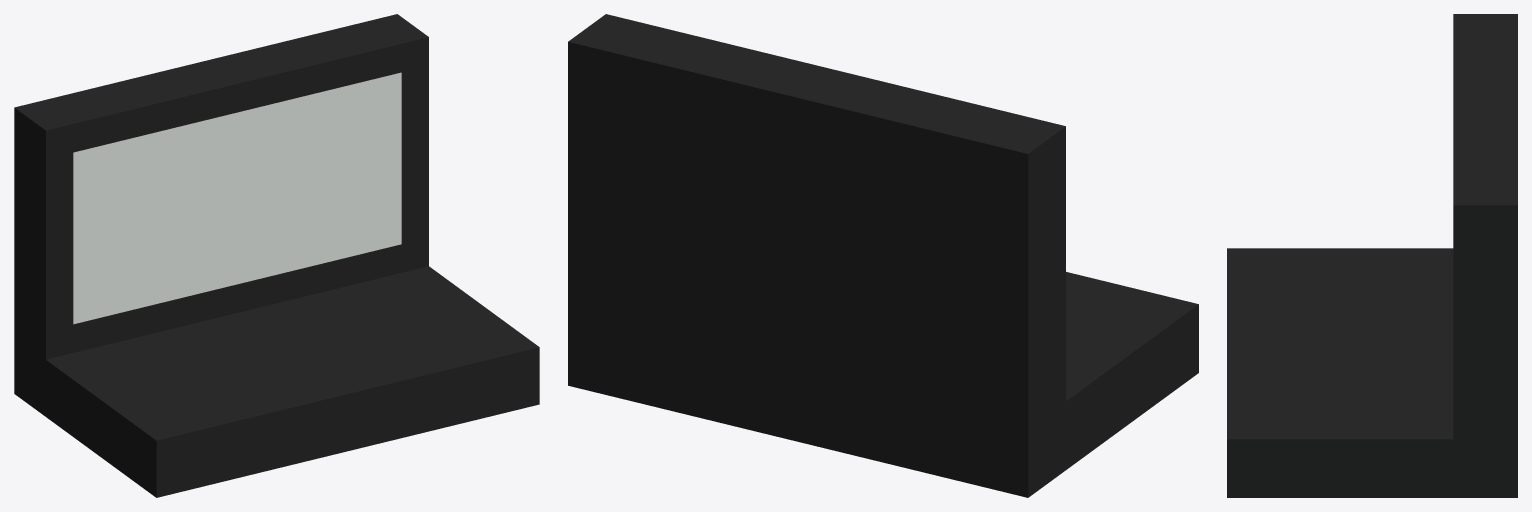
Rendered from notebook.obj.
3 renders of one model, left to right at view 1: azimuth 30°, elevation 25°; view 2: azimuth 150°, elevation 25°; view 3: azimuth 270°, elevation 25°, orthographic. The views are drawn at different scales.
Bounding box in the file's own units: 1.4 × 1 × 0.9.
Materials: 1 (1 with a texture image).
